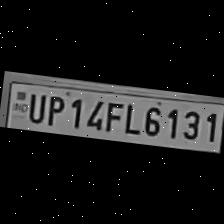1: (63, 94, 85, 130), (159, 104, 181, 140), (199, 108, 221, 144)
3: (176, 106, 202, 142)
4: (81, 95, 105, 131)
6: (138, 102, 164, 137)
F: (100, 98, 123, 134)
L: (119, 99, 142, 136)
P: (42, 91, 66, 127)
U: (24, 89, 46, 124)
